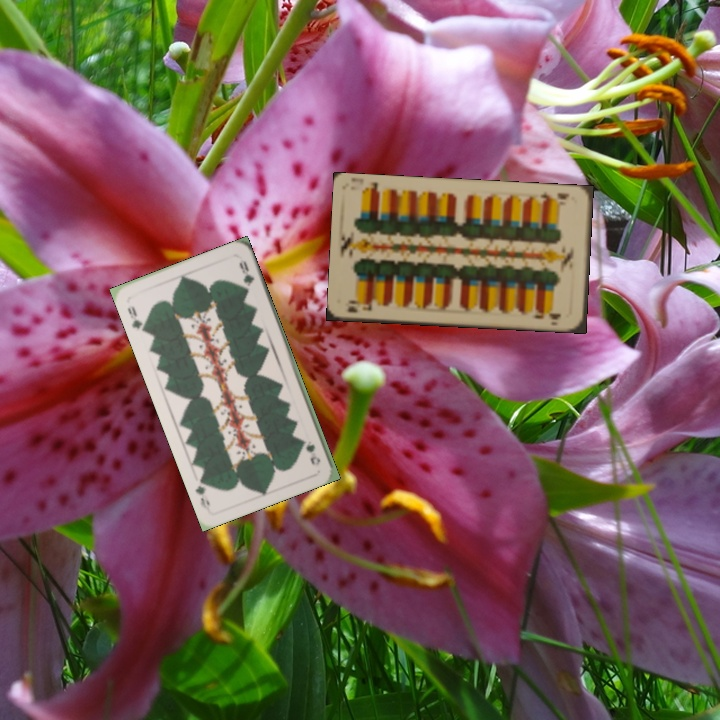E10: (536, 187, 571, 207), (343, 297, 375, 316)
G9: (123, 302, 149, 335), (299, 434, 323, 467)
